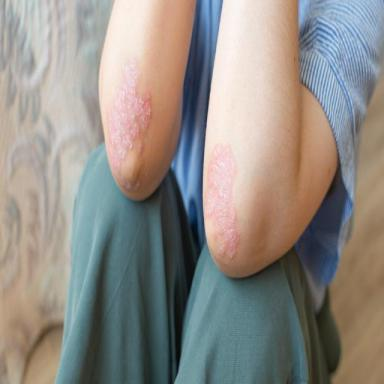Psoriasis: (107, 58, 152, 192), (204, 143, 240, 258)
